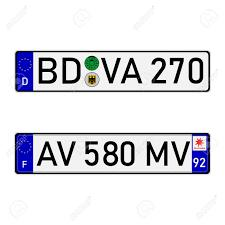0: (187, 58, 204, 85), (120, 140, 136, 167)
2: (150, 56, 168, 84)
5: (83, 139, 101, 168)
7: (169, 57, 186, 85)
8: (102, 140, 119, 167)
A: (121, 56, 144, 85), (37, 139, 57, 167)
B: (37, 56, 59, 87)
D: (61, 57, 82, 86)
M: (146, 139, 170, 167)
V: (101, 56, 121, 86), (170, 139, 191, 167), (56, 139, 77, 167)
